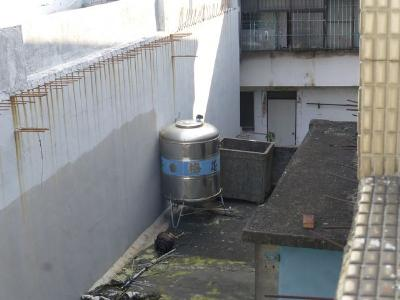box: (217, 136, 275, 204)
water_tower: (157, 119, 229, 227)
